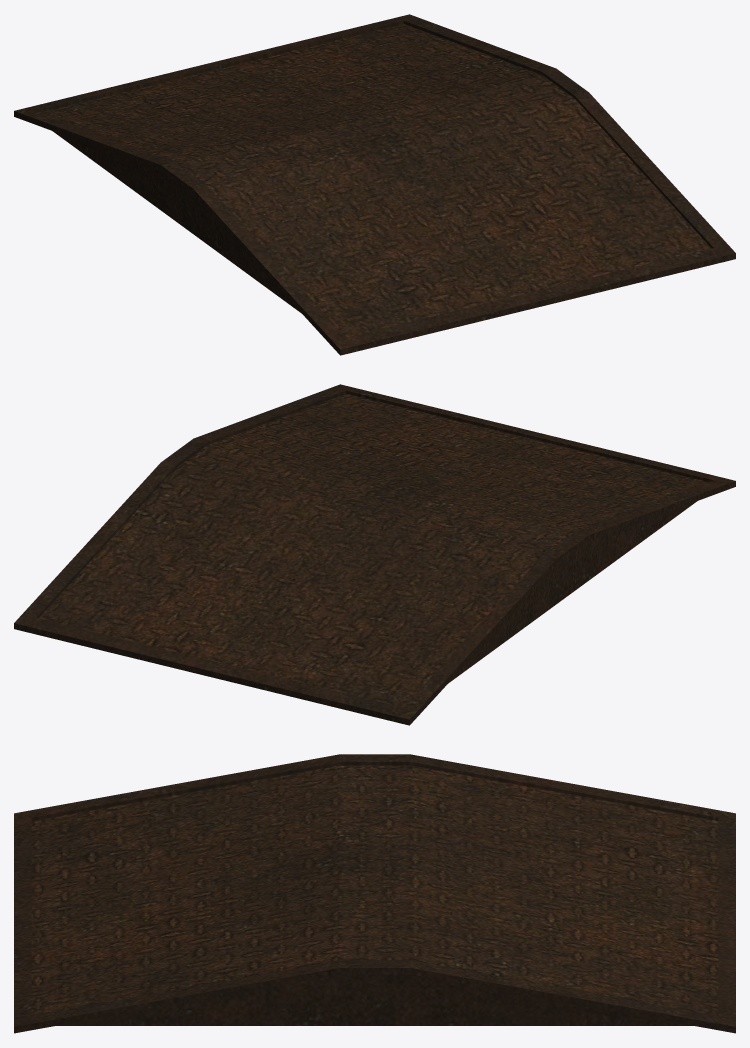
The model's file is tunnel_entrance_platform_1.obj.
3 views of the same model, one above another, from view 1: azimuth 30°, elevation 25°; view 2: azimuth 150°, elevation 25°; view 3: azimuth 270°, elevation 25° (orthographic). The views are drawn at different scales.
Visible parts, largest first — view 1: tunnel_entrance_platform_1; view 2: tunnel_entrance_platform_1; view 3: tunnel_entrance_platform_1.
Boxes of the visible parts, x1,y1,x2,y2 form: tunnel_entrance_platform_1: (14, 14, 735, 355); tunnel_entrance_platform_1: (14, 384, 735, 725); tunnel_entrance_platform_1: (14, 754, 735, 1033).
Bounding box in the file's own units: 44.8 × 6.4 × 64.
2 materials, 2 textured.
